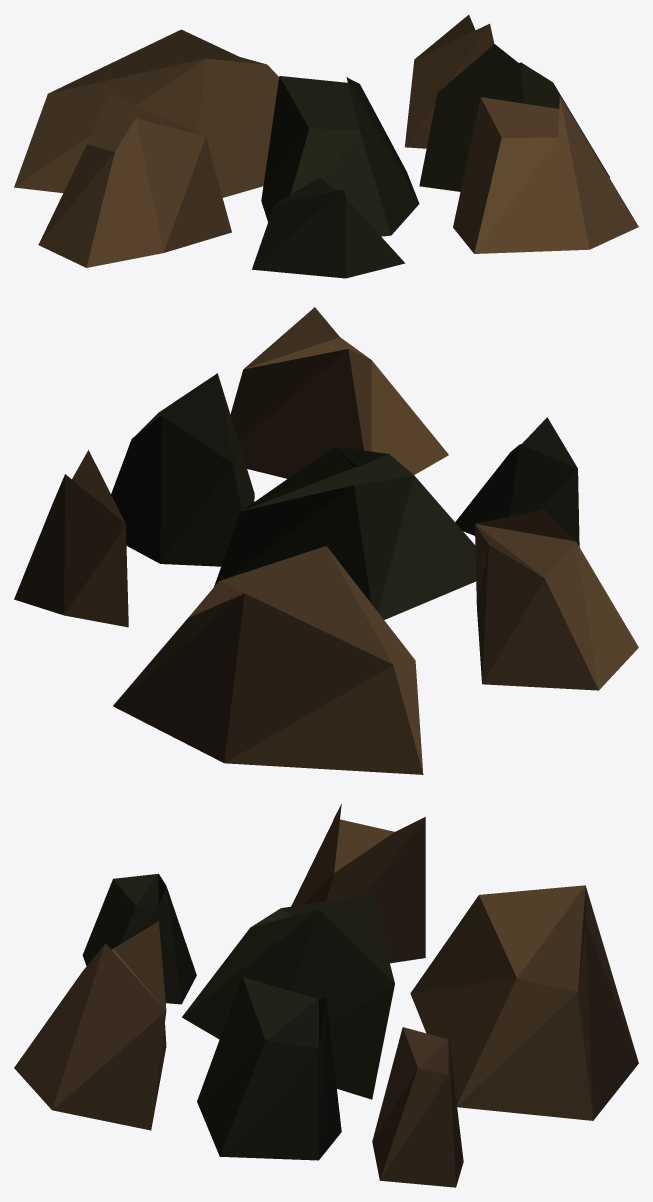
Rendered from iron-ore.obj.
3 renders of one model, top to bottom at view 1: azimuth 30°, elevation 25°; view 2: azimuth 150°, elevation 25°; view 3: azimuth 270°, elevation 25°, orthographic. The views are drawn at different scales.
Parts seen in each view (by area): view 1: Item Coal 2026-09-12_21-09-08; view 2: Item Coal 2026-09-12_21-09-08; view 3: Item Coal 2026-09-12_21-09-08.
Part boxes in pixels (box(x1,y1,x2,y2)): Item Coal 2026-09-12_21-09-08: box(14, 15, 638, 278); Item Coal 2026-09-12_21-09-08: box(14, 307, 638, 774); Item Coal 2026-09-12_21-09-08: box(14, 804, 638, 1187).
Bounding box in the file's own units: 82 × 30 × 82.
